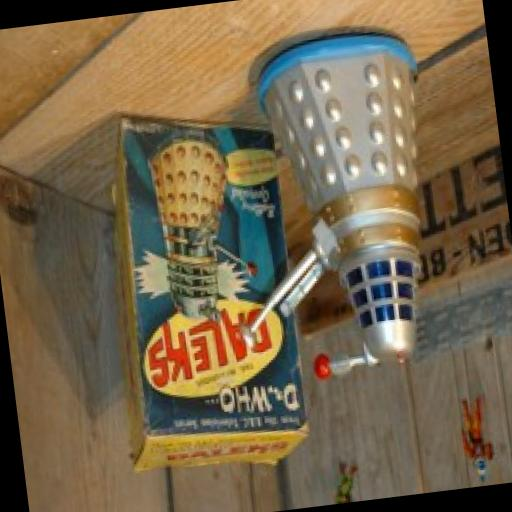dalek: (204, 18, 462, 388), (136, 119, 266, 334)
